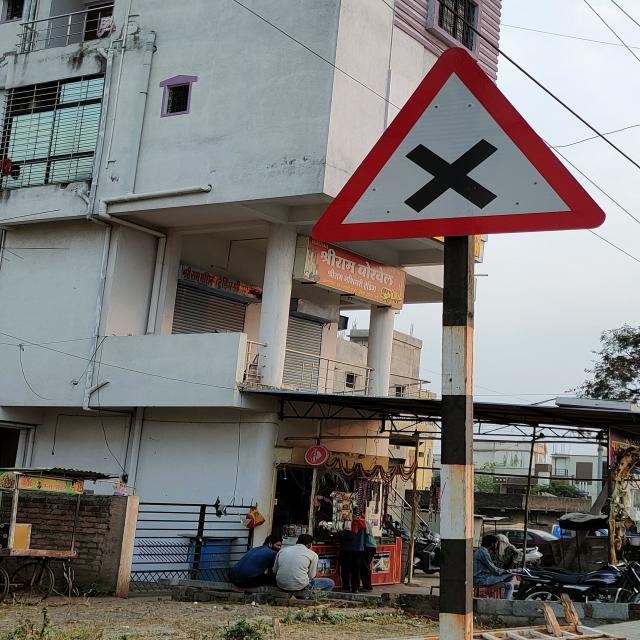CROSS_ROAD: (309, 46, 605, 241)
